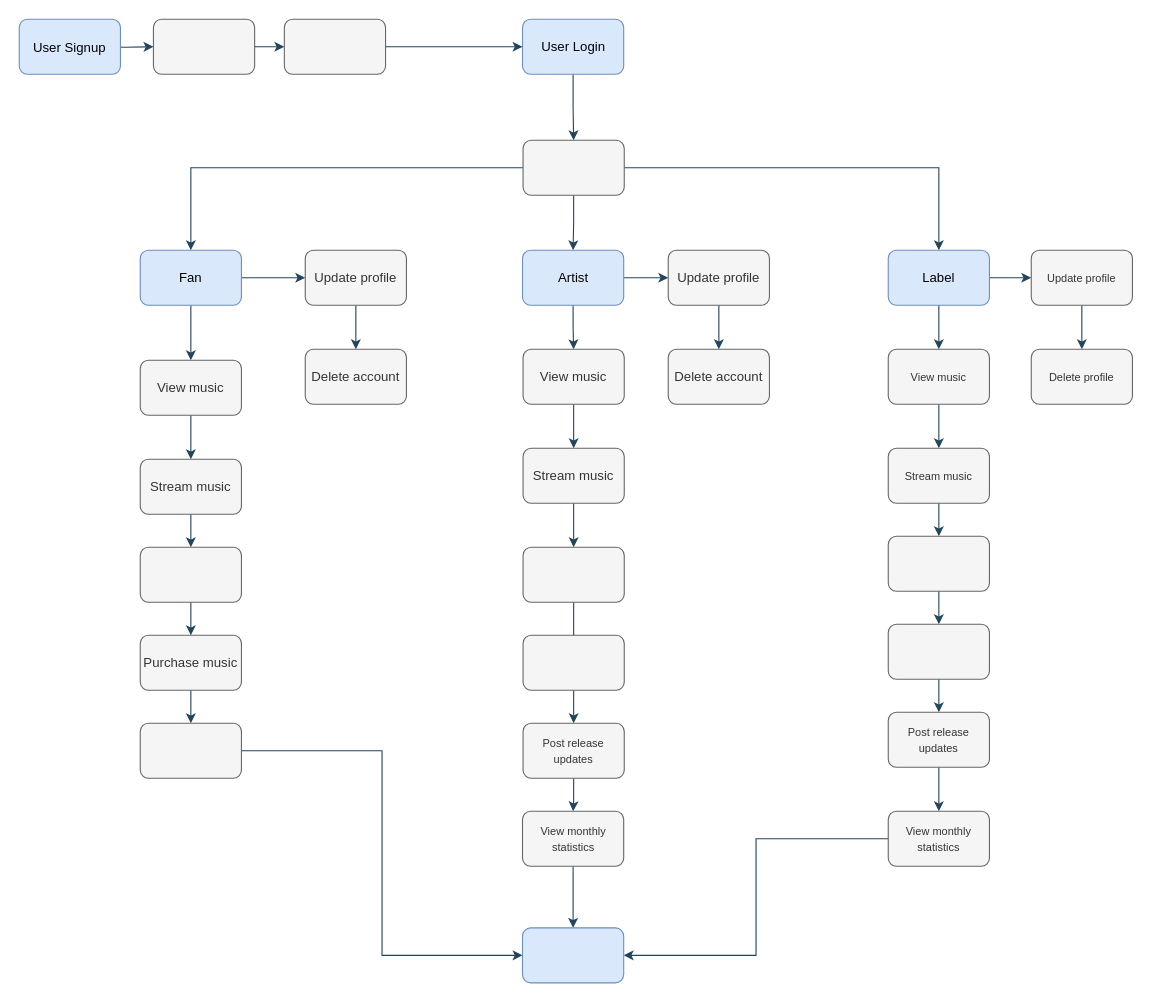
Image size: 1152x1002. Some labels were removed from this diagram. The centre of each missing label's shape, as x and y in pixels:
"Add artists" belongs at point (938, 563).
"Add music" belongs at point (573, 574).
"Add to wishlist" belongs at point (190, 574).
"Follow artist/labels" belongs at point (190, 750).
"Logout" belongs at point (572, 955).
"Sell artists' music" belongs at point (938, 651).
"Sell music" belongs at point (573, 662).
"Signup as a Fan, Artist, or Label?" belongs at point (203, 46).
"Signup success?" belongs at point (334, 46).
"User is a Fan, Artist, or Label?" belongs at point (573, 167).
